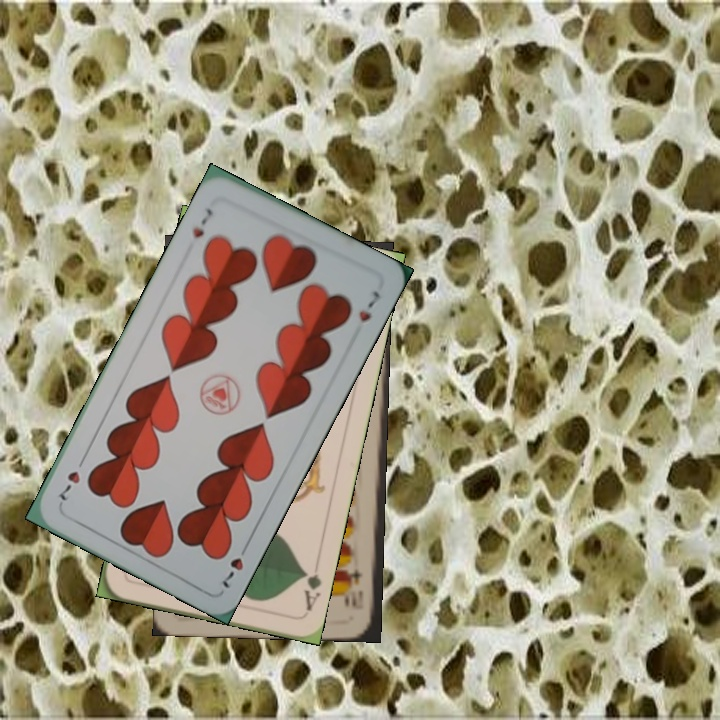E10: (347, 564, 366, 612)
GA: (298, 565, 324, 614)
H7: (217, 538, 252, 591), (188, 204, 215, 241)
